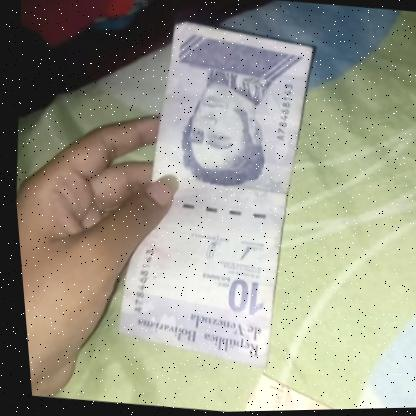ten-front-vef: (92, 13, 333, 375)
